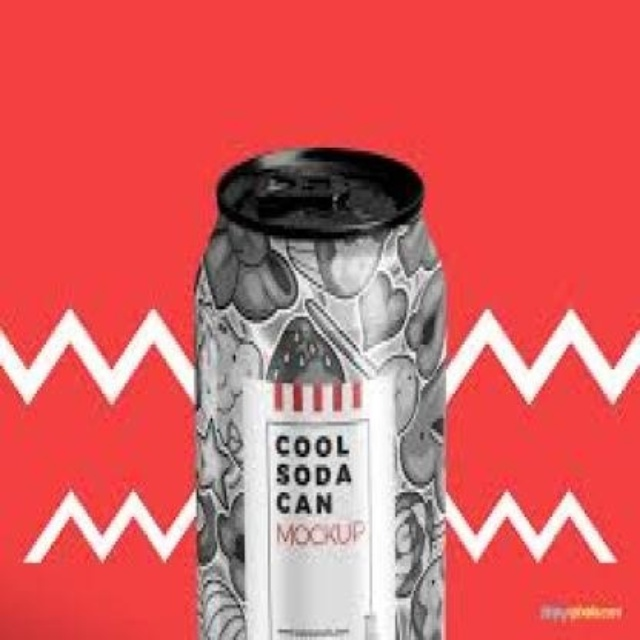trash: (197, 148, 443, 638)
